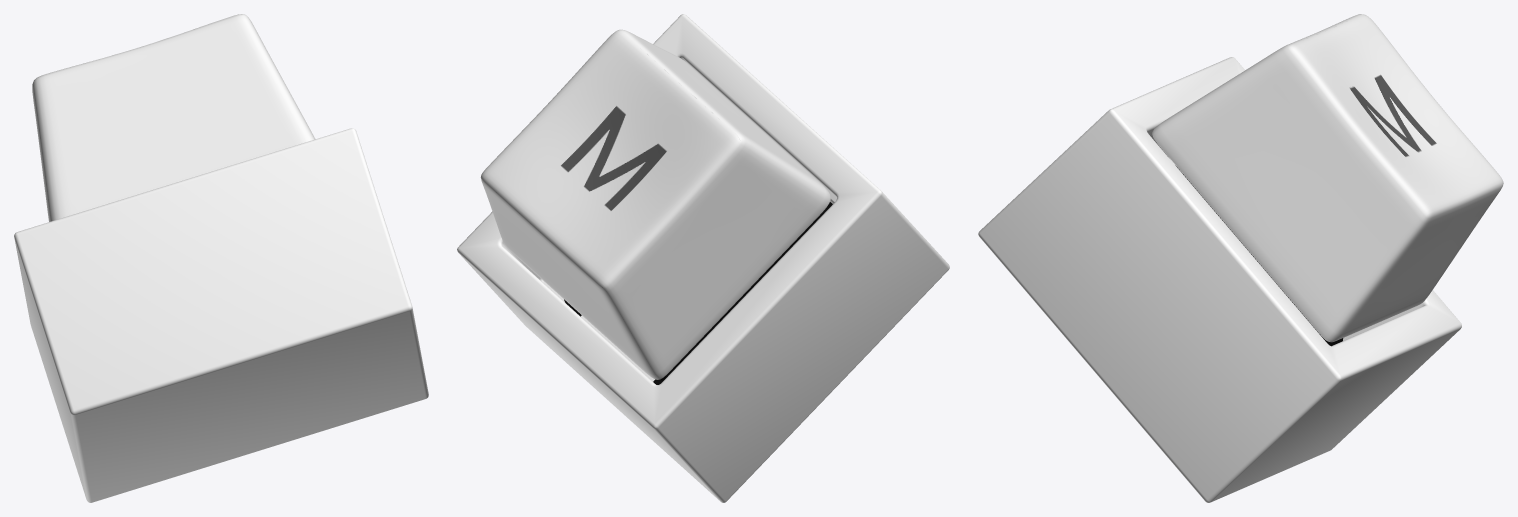
Rendered from muda-key-v1.1.glb.
The picture shows the model from 3 angles, left to right: view 1: azimuth 30°, elevation 25°; view 2: azimuth 150°, elevation 25°; view 3: azimuth 270°, elevation 25°; orthographic projection. The views are drawn at different scales.
Visible parts, largest first — view 1: housing_bottom_base, key_cap; view 2: key_cap, housing_bottom_base, housing_top; view 3: housing_bottom_base, key_cap.
Part boxes in pixels (box(x1,y1,x2,y2)): housing_bottom_base: box(14, 128, 428, 502); key_cap: box(32, 14, 315, 221); key_cap: box(480, 29, 830, 379); housing_bottom_base: box(457, 14, 949, 502); housing_top: box(660, 217, 818, 381); housing_bottom_base: box(978, 57, 1461, 502); key_cap: box(1152, 14, 1503, 342).
Size of the model in its own units: 0.0893 by 0.0955 by 0.0971.
5 materials, 2 textured.
